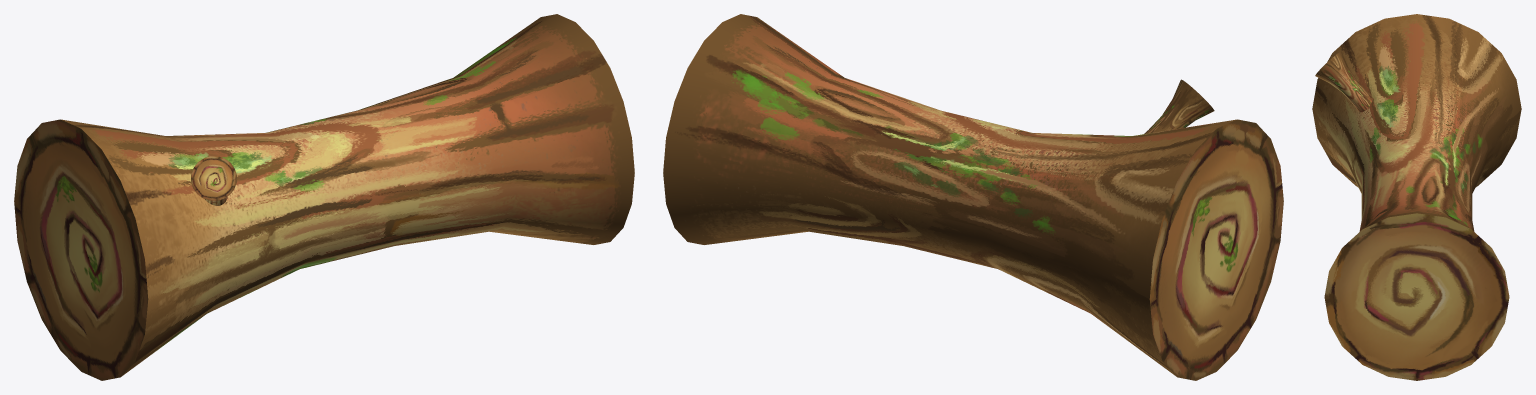
The model's file is wood.fbx.
3 views of the same model, side by side, from view 1: azimuth 30°, elevation 25°; view 2: azimuth 150°, elevation 25°; view 3: azimuth 270°, elevation 25° (orthographic). The views are drawn at different scales.
Visible parts, largest first — view 1: pCylinder1, pCylinder3; view 2: pCylinder1, pCylinder3; view 3: pCylinder1, pCylinder3.
Part boxes in pixels (box(x1,y1,x2,y2)): pCylinder1: box(14, 14, 634, 380); pCylinder3: box(191, 156, 236, 205); pCylinder1: box(663, 14, 1283, 380); pCylinder3: box(1144, 79, 1214, 133); pCylinder1: box(1312, 14, 1521, 380); pCylinder3: box(1315, 51, 1372, 112).
Bounding box in the file's own units: 1.39 × 0.6526 × 0.6526.
